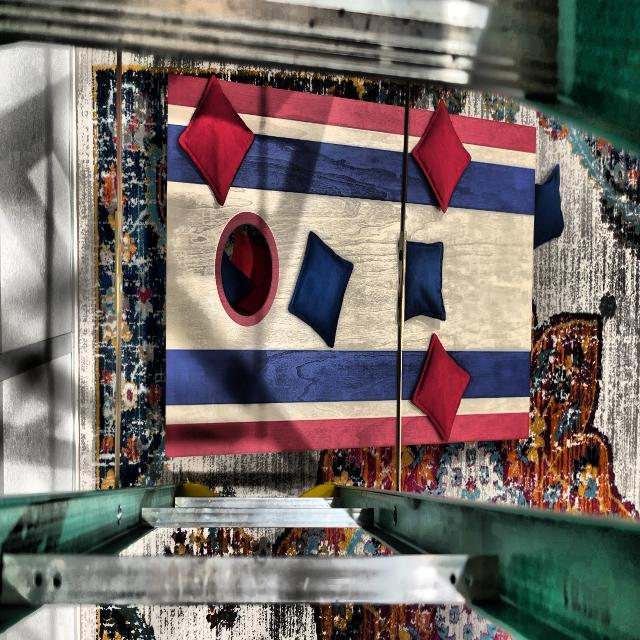blue-bean-bag: (287, 230, 354, 348), (398, 241, 446, 322), (534, 166, 565, 249)
blue-bean-bag-in-hole: (220, 249, 250, 310)
board: (167, 128, 528, 439)
hole: (215, 209, 280, 327)
red-bean-bag: (177, 74, 256, 208), (411, 100, 472, 213), (410, 334, 471, 443)
red-bean-bag-in-hole: (232, 230, 273, 313)
